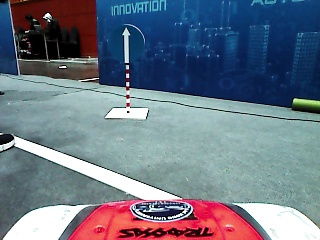straight: (107, 23, 148, 63)
